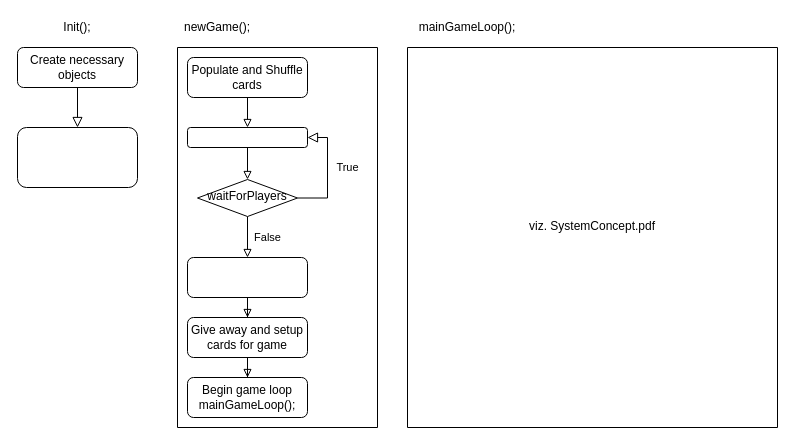
Some shapes in this 795 by 445 pixel diagram are drawn without their labels. Each missing label, with the centre of its shape:
Assign Players: point 247,277
gameStatus = noGame: point 77,157
Waiting for players: point 247,137
